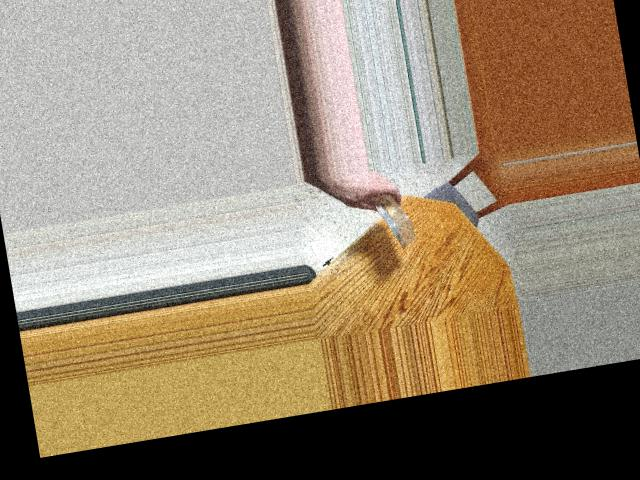cheese: (371, 183, 417, 254)
